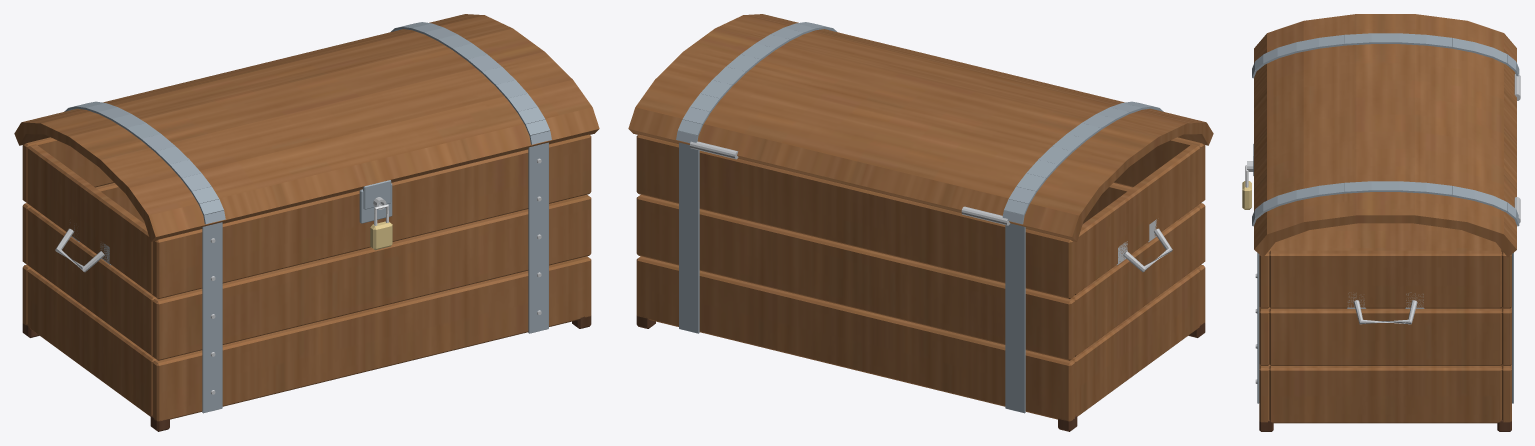
The model's file is bau_madeira.glb.
3 renders of one model, left to right at view 1: azimuth 30°, elevation 25°; view 2: azimuth 150°, elevation 25°; view 3: azimuth 270°, elevation 25°, orthographic. The views are drawn at different scales.
Visible parts, largest first — view 1: bau_madeira_madeira, bau_madeira_tampa_madeira, bau_madeira_aco_pintado, bau_madeira_tampa_aco_pintado, bau_madeira_aco, bau_madeira_latao, bau_madeira_madeira_escura; view 2: bau_madeira_madeira, bau_madeira_tampa_madeira, bau_madeira_aco_pintado, bau_madeira_tampa_aco_pintado, bau_madeira_aco; view 3: bau_madeira_tampa_madeira, bau_madeira_madeira, bau_madeira_tampa_aco_pintado, bau_madeira_aco, bau_madeira_aco_pintado, bau_madeira_madeira_escura.
Part boxes in pixels (bbox=[...]): bau_madeira_madeira: bbox=[22, 134, 591, 421]; bau_madeira_tampa_madeira: bbox=[14, 14, 599, 241]; bau_madeira_aco_pintado: bbox=[202, 142, 548, 413]; bau_madeira_tampa_aco_pintado: bbox=[64, 22, 551, 224]; bau_madeira_aco: bbox=[55, 158, 541, 394]; bau_madeira_latao: bbox=[370, 221, 392, 250]; bau_madeira_madeira_escura: bbox=[22, 315, 591, 431]; bau_madeira_madeira: bbox=[636, 134, 1205, 421]; bau_madeira_tampa_madeira: bbox=[628, 14, 1213, 241]; bau_madeira_aco_pintado: bbox=[679, 142, 1025, 413]; bau_madeira_tampa_aco_pintado: bbox=[676, 22, 1163, 224]; bau_madeira_aco: bbox=[689, 141, 1172, 272]; bau_madeira_tampa_madeira: bbox=[1254, 14, 1516, 257]; bau_madeira_madeira: bbox=[1259, 223, 1511, 423]; bau_madeira_tampa_aco_pintado: bbox=[1252, 33, 1519, 226]; bau_madeira_aco: bbox=[1247, 74, 1520, 383]; bau_madeira_aco_pintado: bbox=[1257, 253, 1513, 403]; bau_madeira_madeira_escura: bbox=[1259, 419, 1511, 431].
Bounding box in the file's own units: 1.05 × 0.5046 × 0.573.
Materials: 6 (2 with a texture image).
